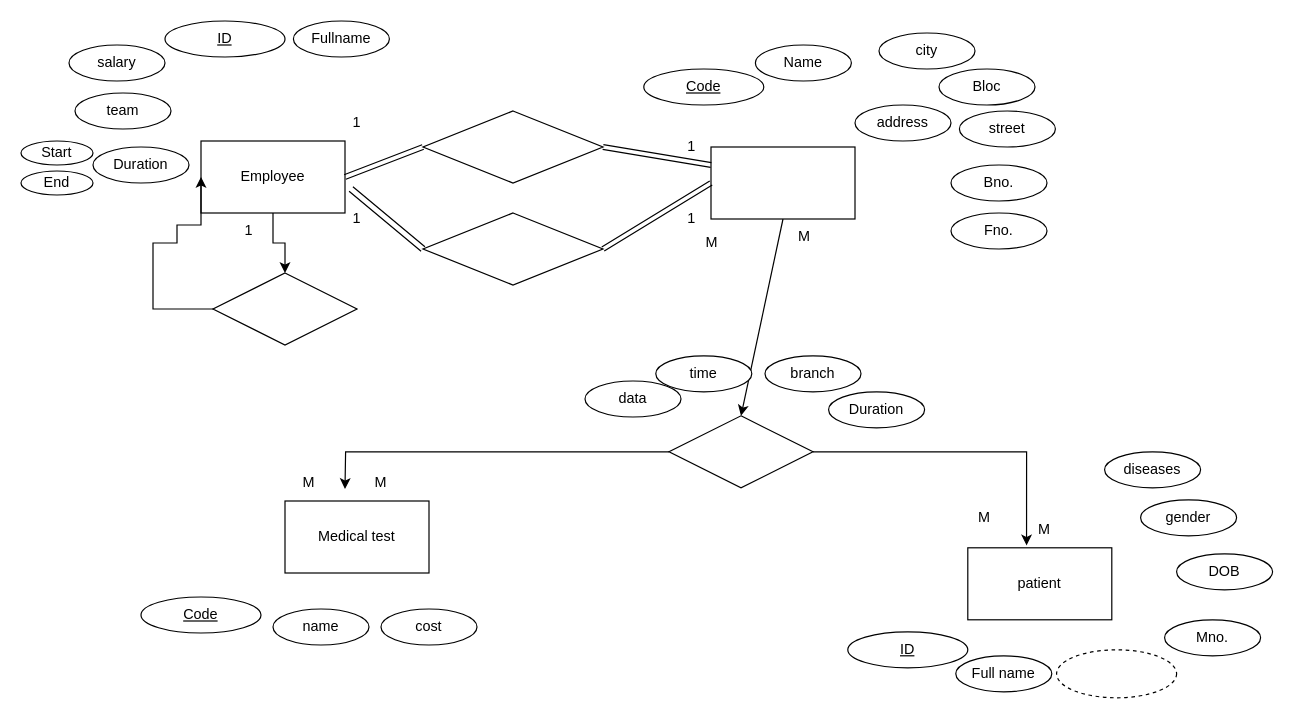
This 1294x719 diagram has some shape labels left out. Each missing label, with the centre of its shape:
Age: (1116,673)
Bransh: (782,182)
manage: (512,146)
perform: (740,451)
Serve: (512,248)
supervise: (284,308)
